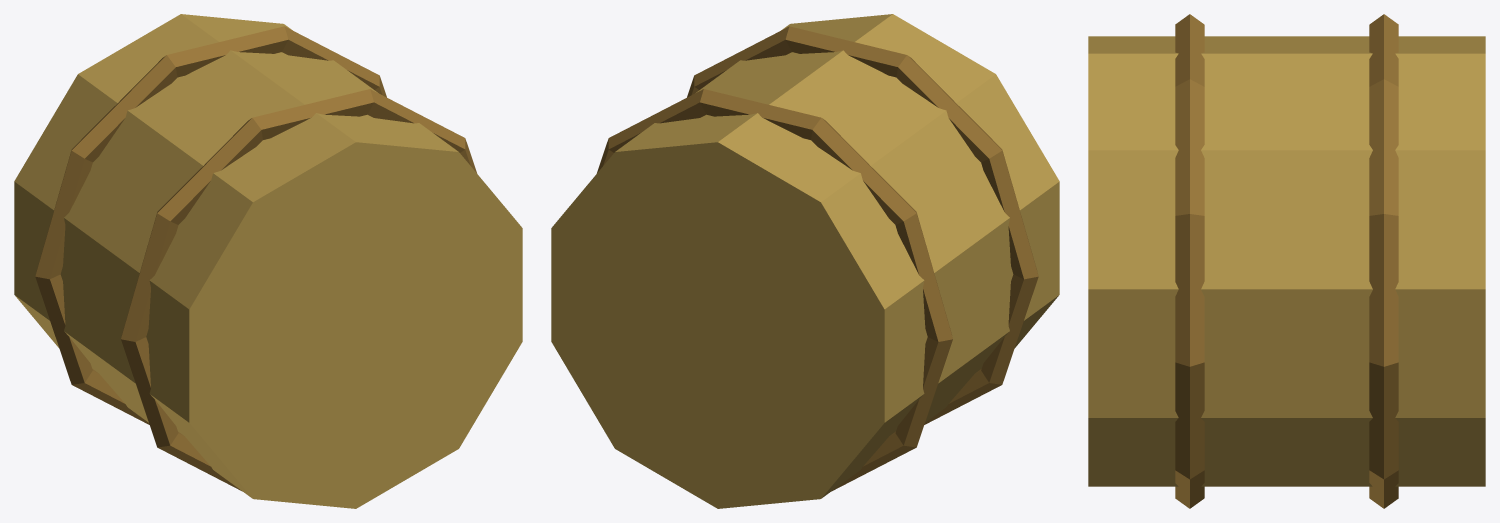
Rendered from hay_bale.glb.
3 renders of one model, left to right at view 1: azimuth 30°, elevation 25°; view 2: azimuth 150°, elevation 25°; view 3: azimuth 270°, elevation 25°, orthographic. The views are drawn at different scales.
Parts seen in each view (by area): view 1: Cylinder; view 2: Cylinder; view 3: Cylinder.
Boxes of the visible parts, x1,y1,x2,y2 form: Cylinder: (14,14,522,508); Cylinder: (551,14,1059,508); Cylinder: (1088,14,1485,508).
Size of the model in its own units: 0.7006 by 0.6663 by 0.558.
